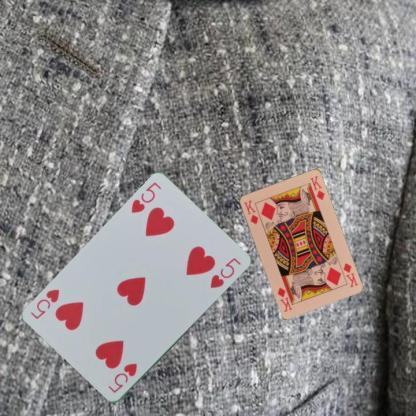5h: (128, 180, 163, 215), (105, 361, 139, 394)
Kd: (241, 198, 259, 226), (340, 260, 358, 288)
